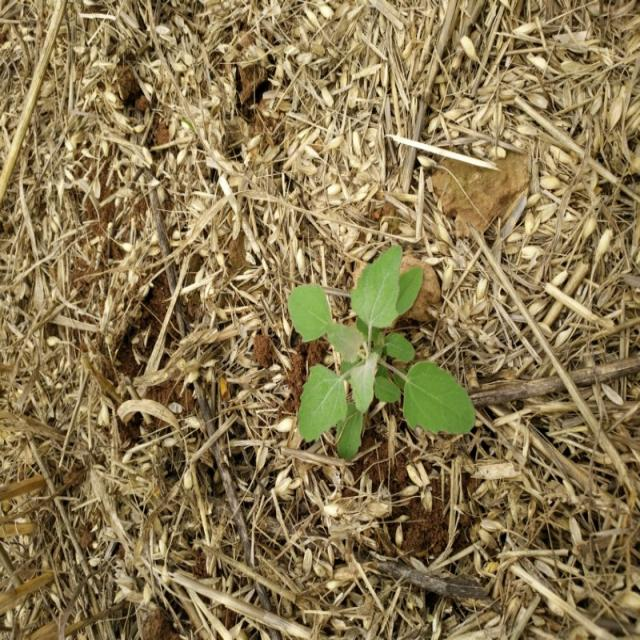ca: (288, 244, 475, 459)
